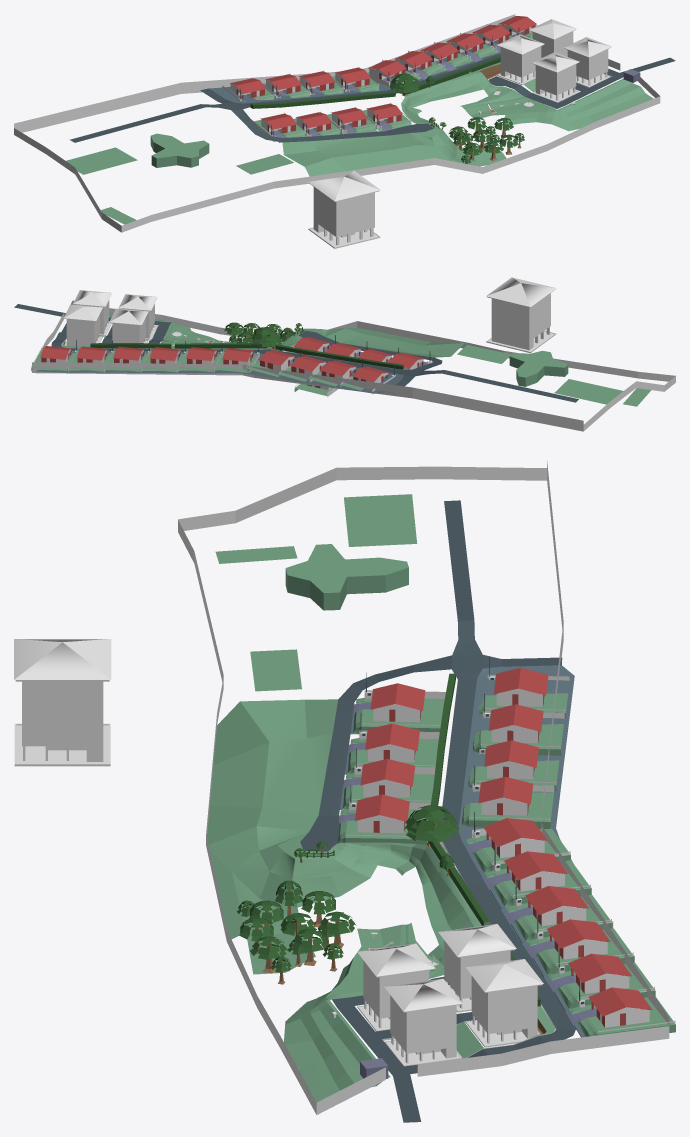
3 renders of one model, top to bottom at view 1: azimuth 30°, elevation 25°; view 2: azimuth 150°, elevation 25°; view 3: azimuth 270°, elevation 25°, orthographic. The views are drawn at different scales.
Parts seen in each view (by area): view 1: Plane; view 2: Plane; view 3: Plane.
Boxes of the visible parts, box(x1,y1,x2,y2) form: Plane: box(14, 14, 675, 248); Plane: box(14, 277, 675, 431); Plane: box(14, 461, 675, 1122).
Bounding box in the file's own units: 10.55 × 1.3 × 5.34.
